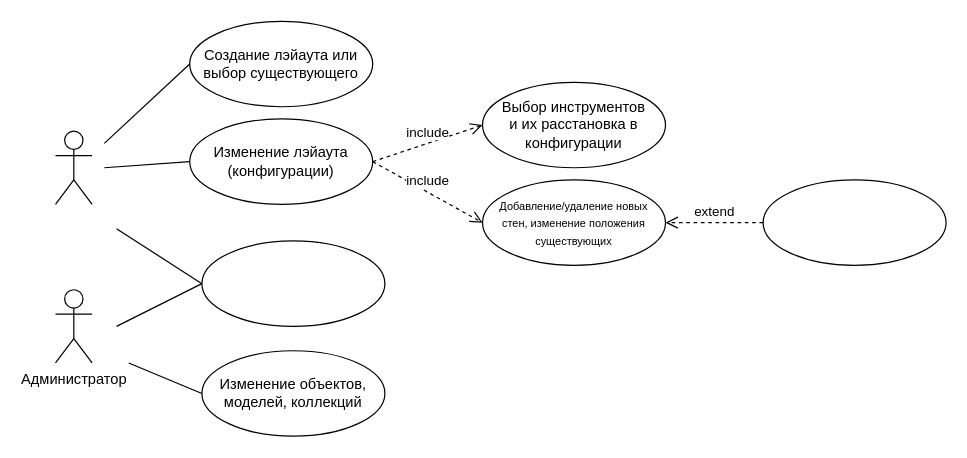
Image size: 967x458. Some labels were removed from this diagram. The shapes that lost their labels are listed below. From the top down, each one's box as (x1, y1, x2, y2) in pixels, then its label:
(54, 130, 92, 204): Клиент
(762, 179, 946, 265): Выбор материала или цвета стен
(201, 240, 385, 326): Оформление заказа
